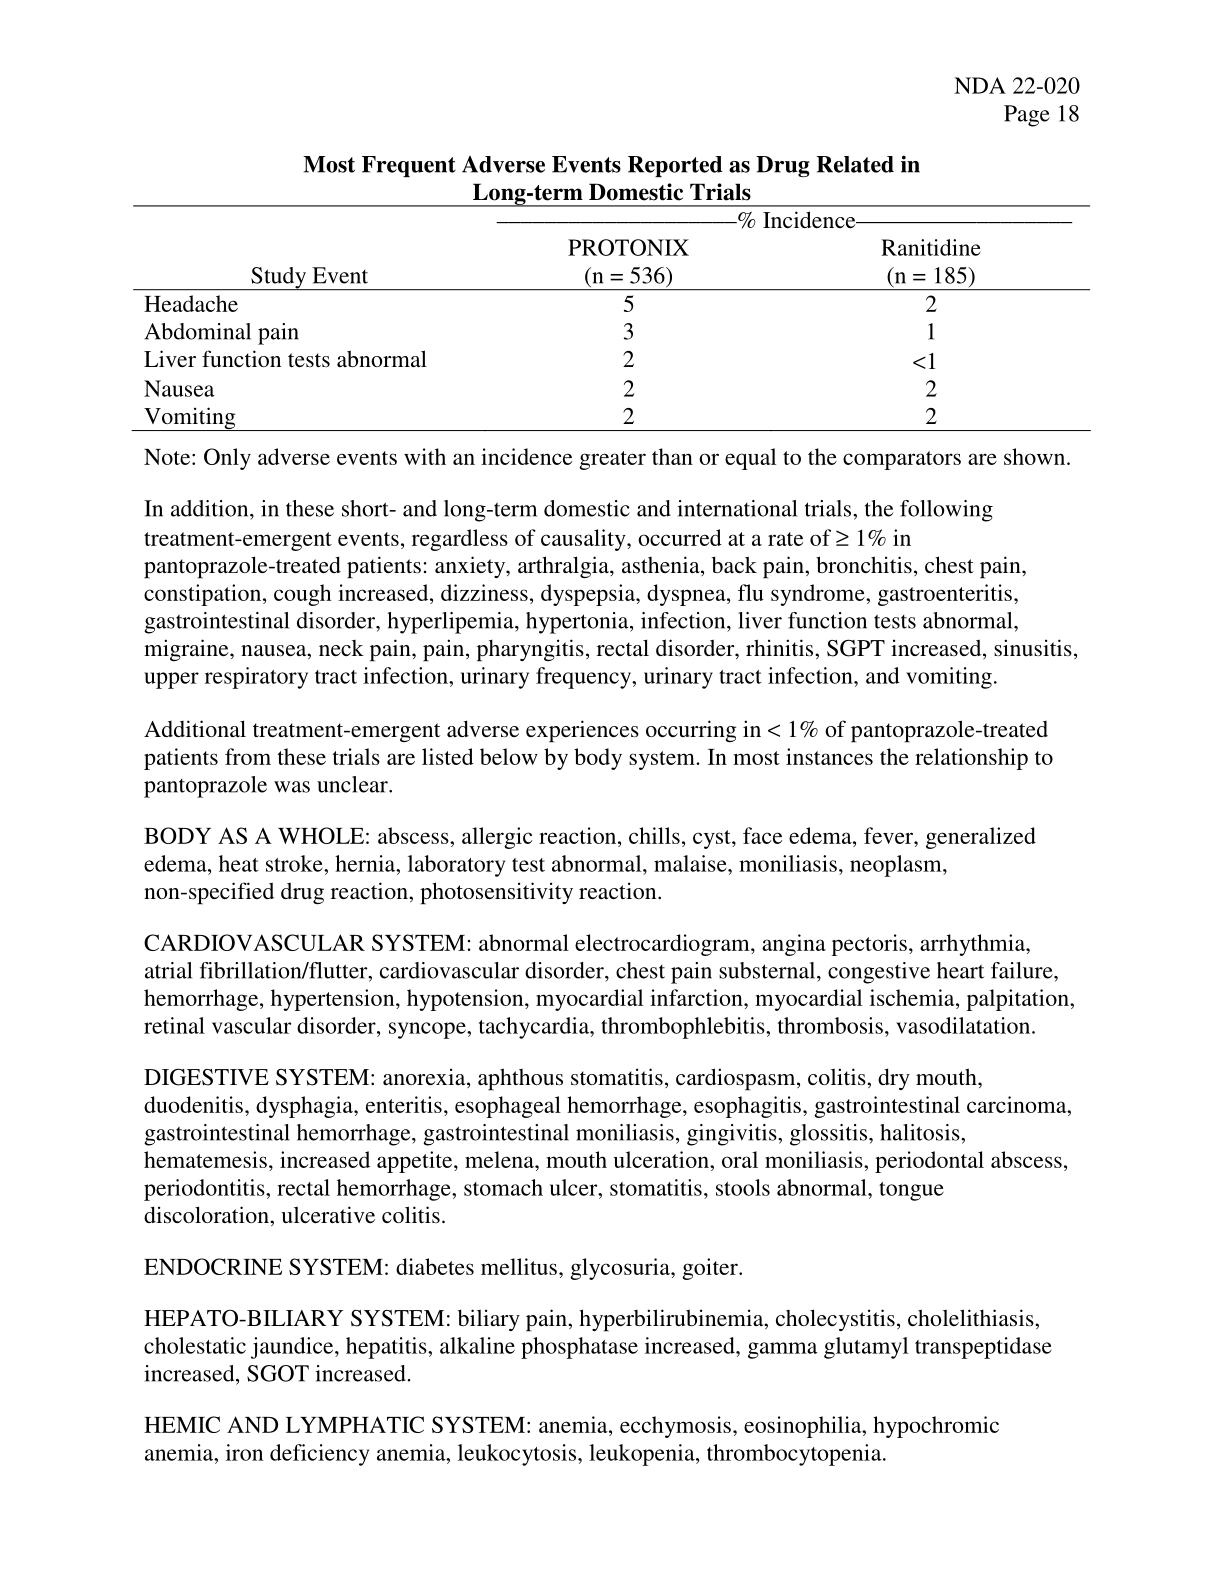partial_lined_merged_cells: (129, 204, 1092, 433)
